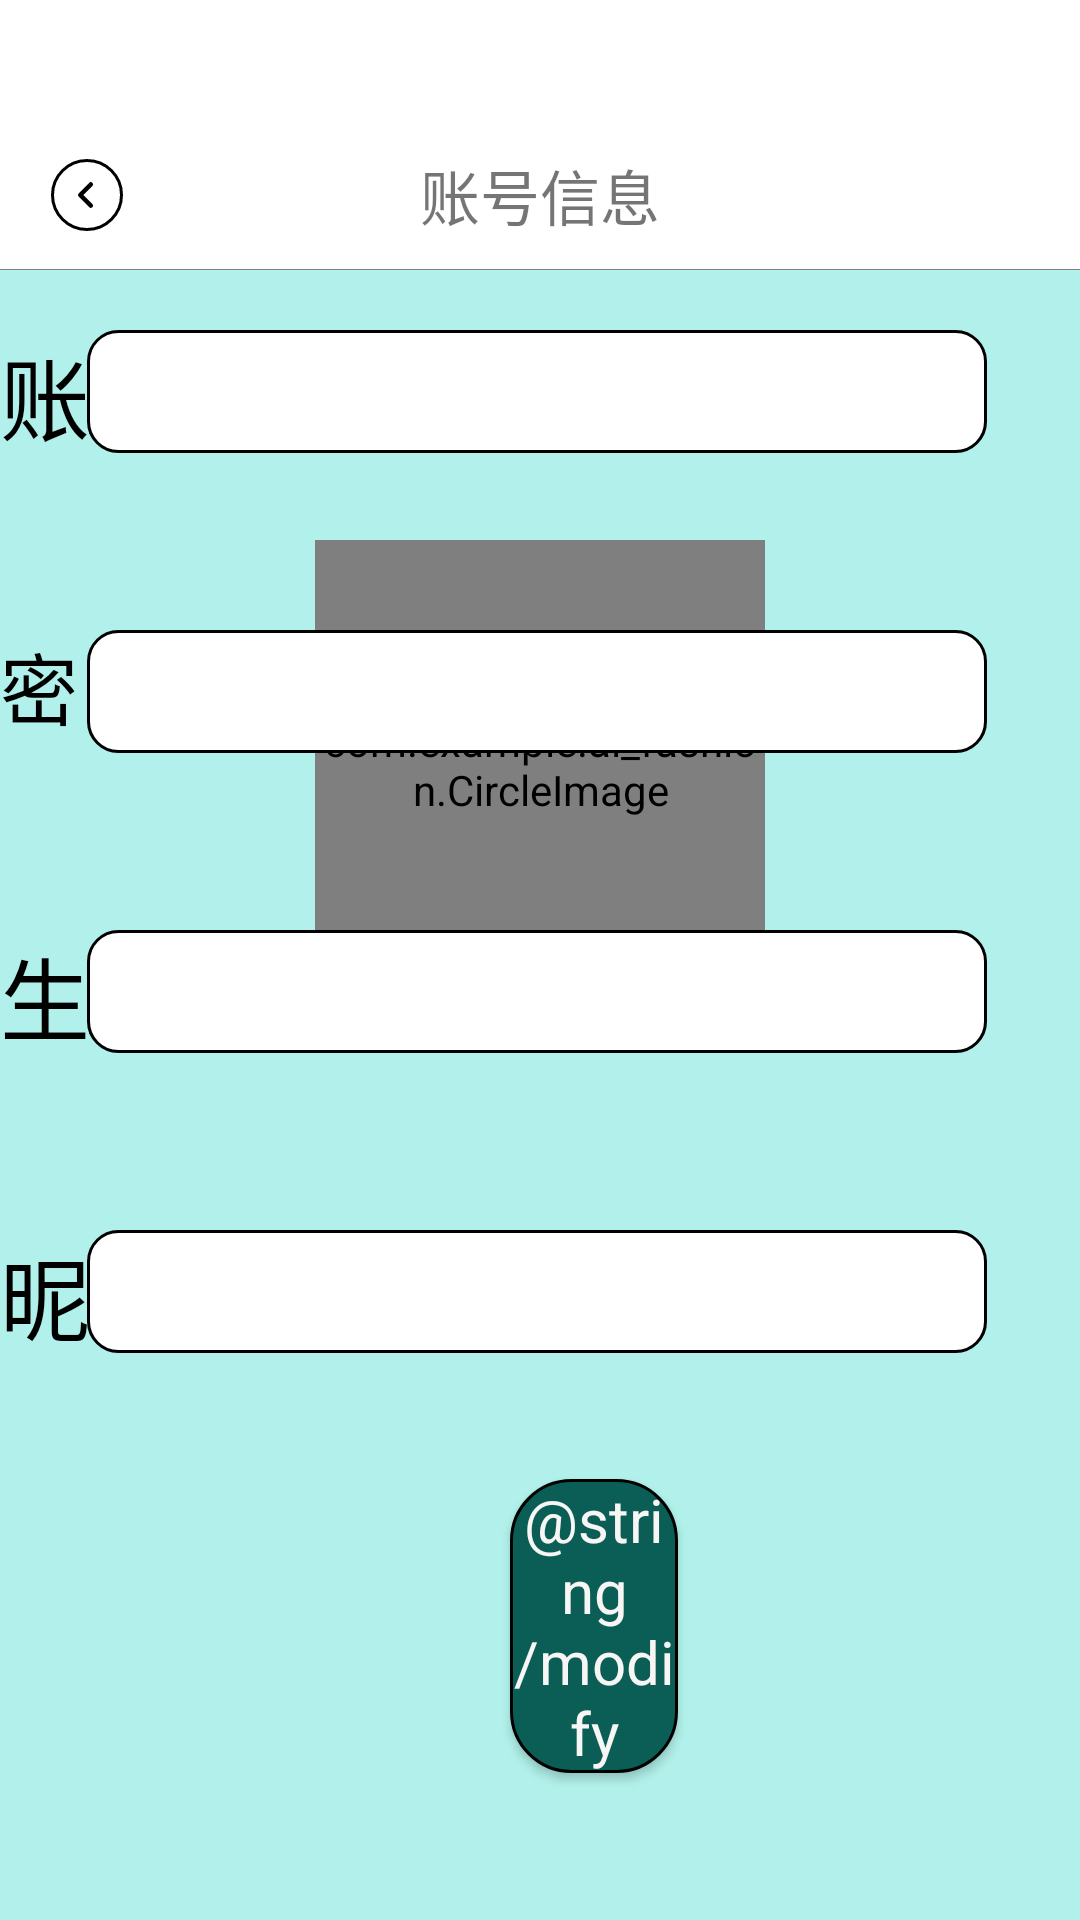

Named icons in this screenshot (1080x1920) and their bounding boxes, region(x1, y1, x2, y2):
arrow circle left: region(51, 159, 123, 231)
